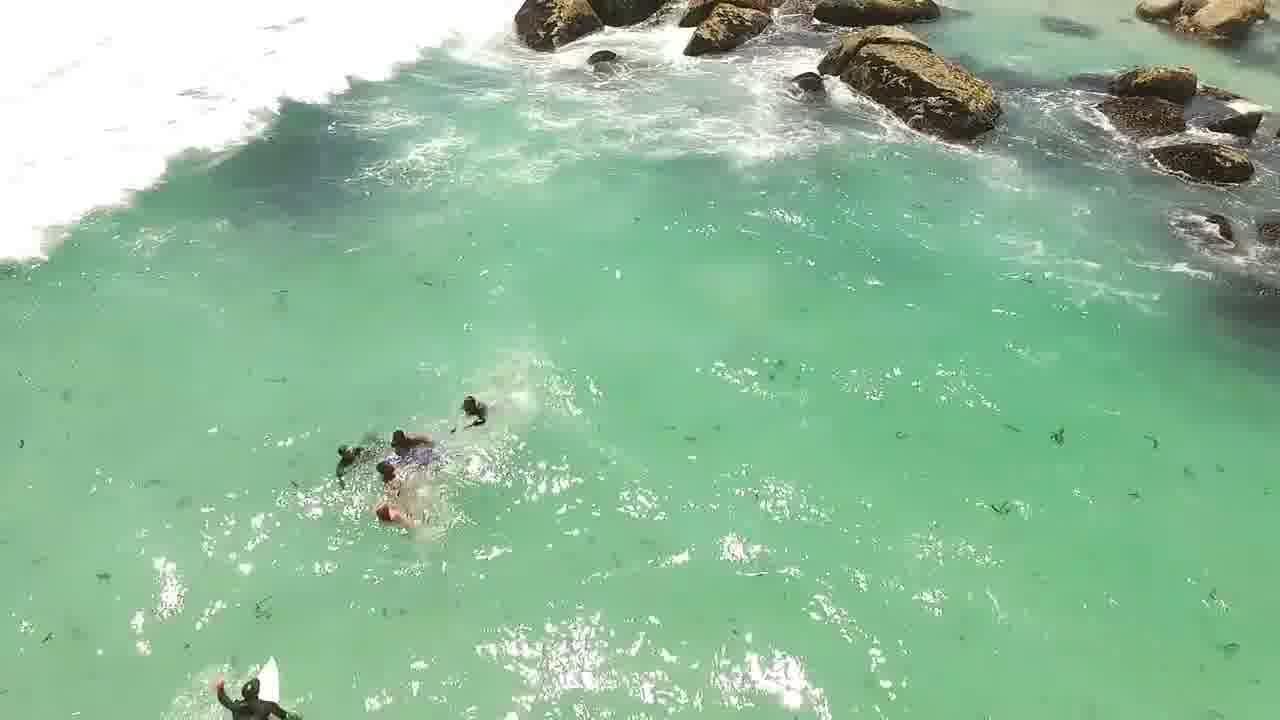human: (370, 448, 434, 503), (316, 430, 373, 487), (360, 495, 433, 539), (447, 386, 503, 436), (371, 413, 431, 453)
